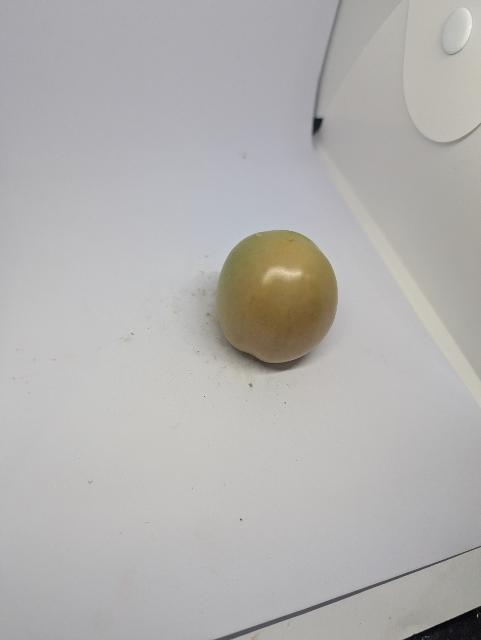breaker: (217, 230, 338, 363)
